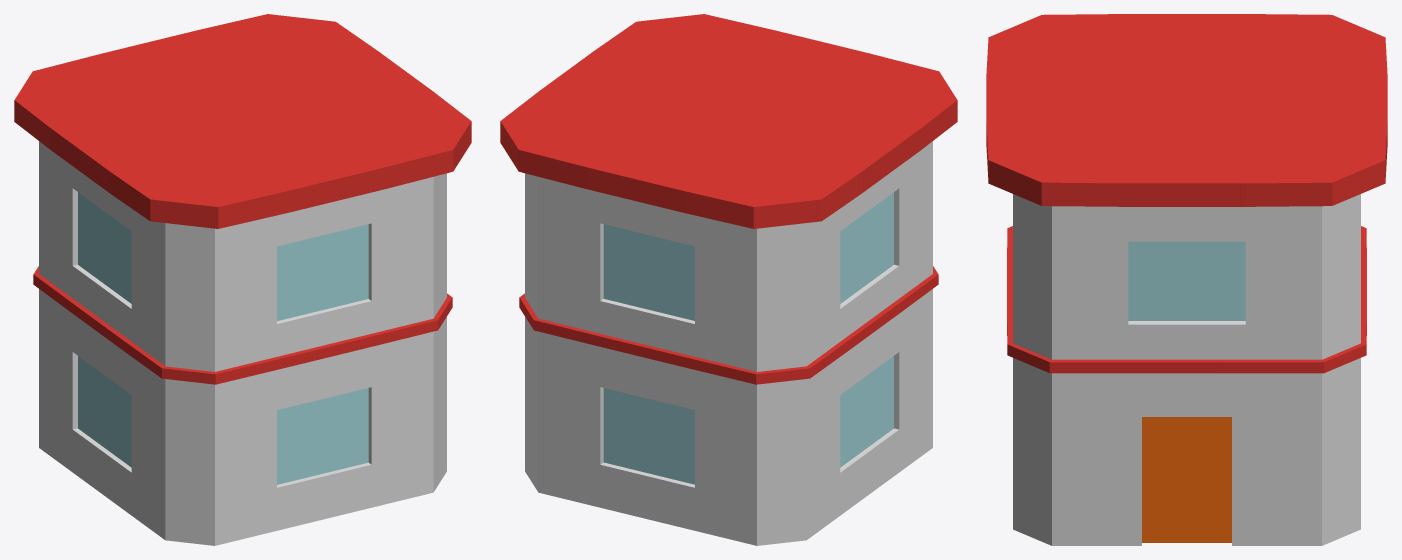
Rendered from Building 3.fbx.
3 renders of one model, left to right at view 1: azimuth 30°, elevation 25°; view 2: azimuth 150°, elevation 25°; view 3: azimuth 270°, elevation 25°, orthographic. The views are drawn at different scales.
Visible parts, largest first — view 1: Building 12; view 2: Building 12; view 3: Building 12.
Boxes of the visible parts, x1,y1,x2,y2 form: Building 12: (14, 14, 471, 545); Building 12: (500, 14, 957, 545); Building 12: (986, 14, 1387, 545).
Size of the model in its own units: 623 by 640 by 623.
